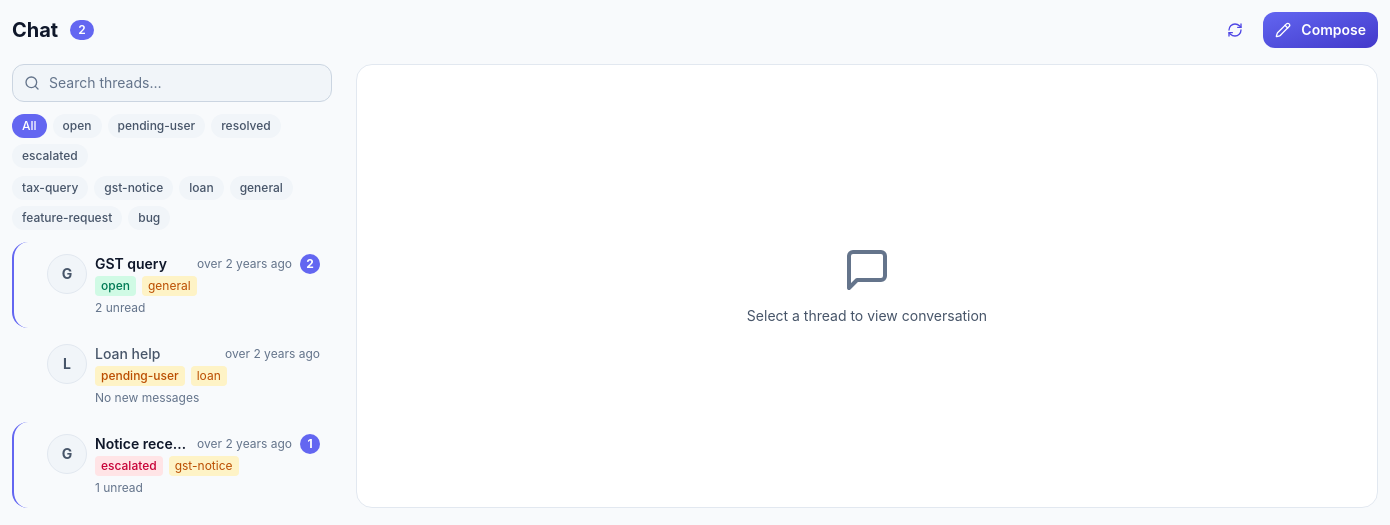
Scenario: ChatInboxPage › clicking Clear filters resets search and status filter
The image size is (1390, 525).
Check: the text "GST query" is shown, box [95,254,167,274]
Step 1. Type "xyznonexistent" into the search field with placeholder "Search threads…" → (172, 83), box [12,64,332,102]
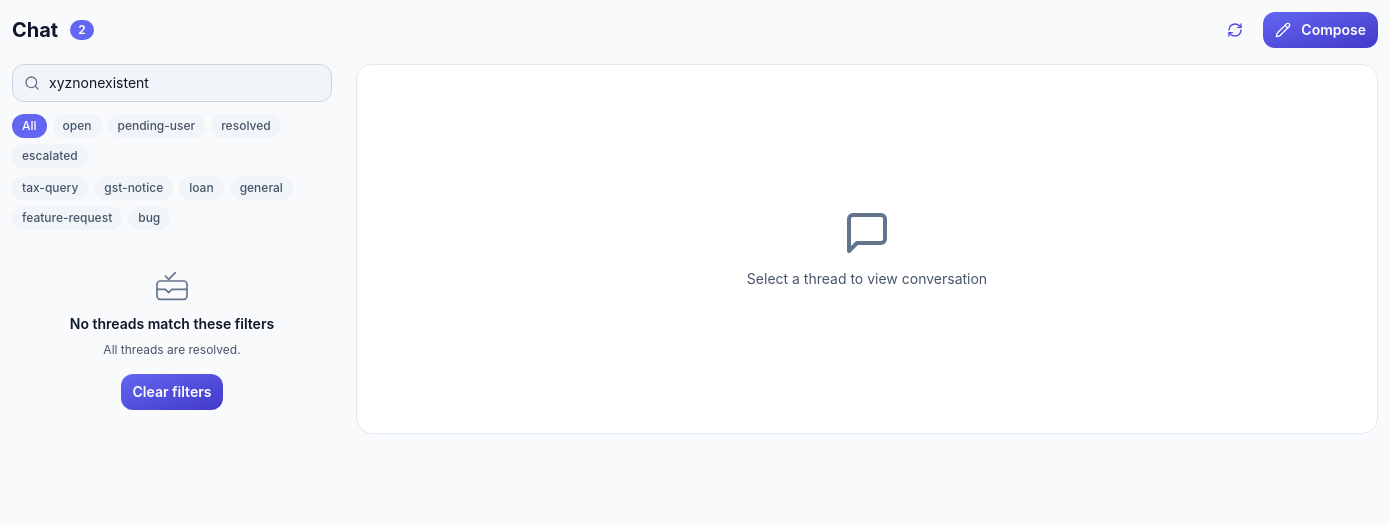
Check: the button "Clear filters" is shown
Step 2. Click the button "Clear filters" → (172, 392), box [120,374,223,410]
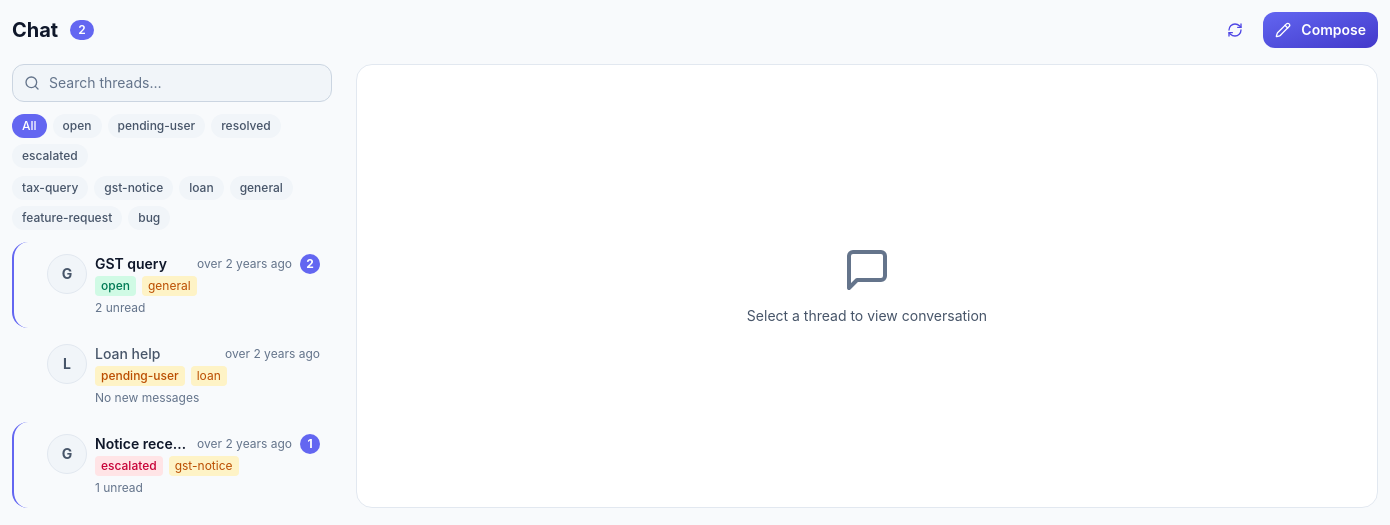
Check: the text "GST query" is shown, box [95,254,167,274]
